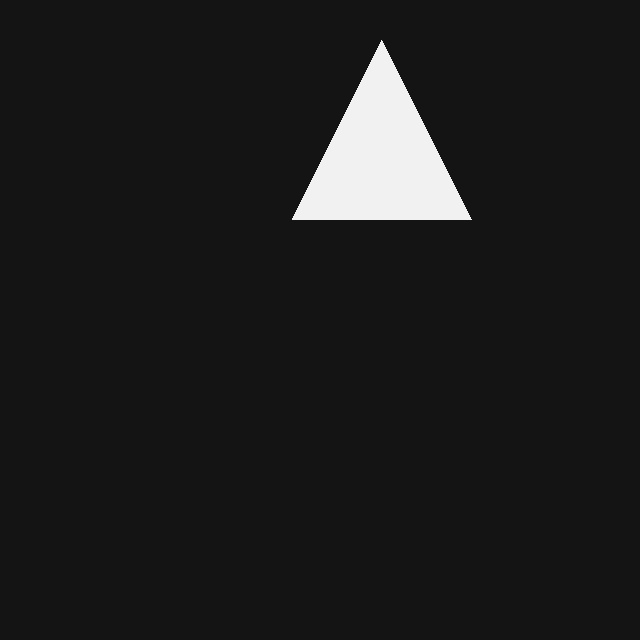triangle: (292, 40, 471, 219)
